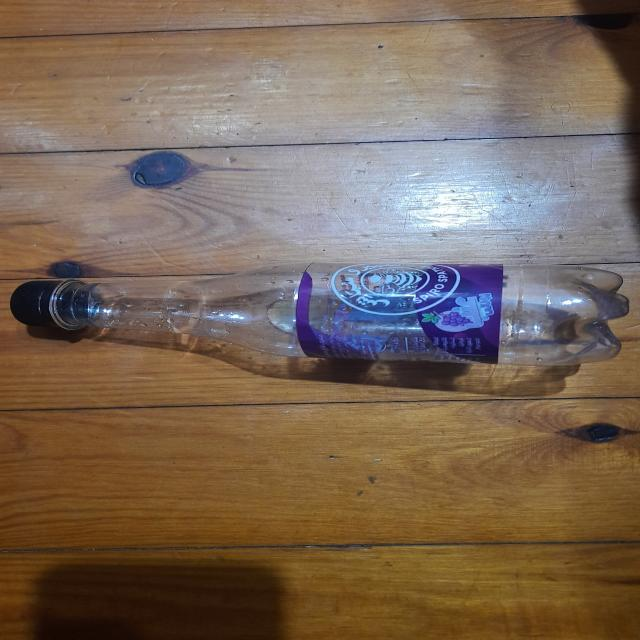plastic: (5, 217, 640, 393)
